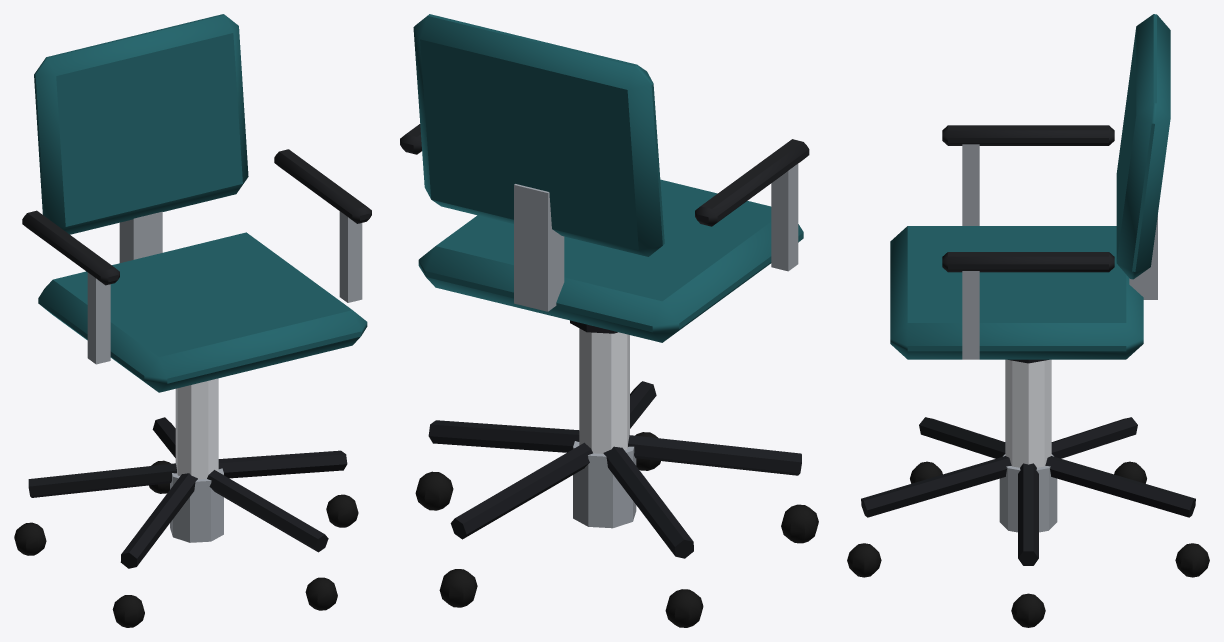
The model's file is labbench_lab_chair.glb.
3 renders of one model, left to right at view 1: azimuth 30°, elevation 25°; view 2: azimuth 150°, elevation 25°; view 3: azimuth 270°, elevation 25°, orthographic. The views are drawn at different scales.
Parts seen in each view (by area): view 1: labbench_lab_chair; view 2: labbench_lab_chair; view 3: labbench_lab_chair.
Boxes of the visible parts, bbox=[...] form: labbench_lab_chair: bbox=[14, 14, 371, 627]; labbench_lab_chair: bbox=[400, 14, 818, 627]; labbench_lab_chair: bbox=[847, 14, 1209, 627].
Size of the model in its own units: 0.61 by 0.9491 by 0.6306.
